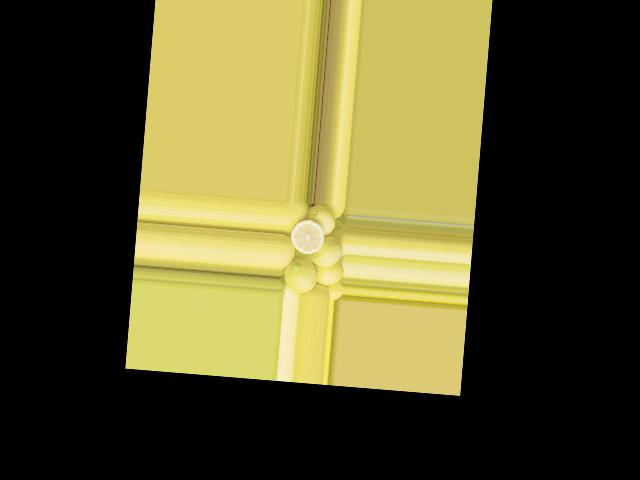lemon: (307, 205, 336, 233)
